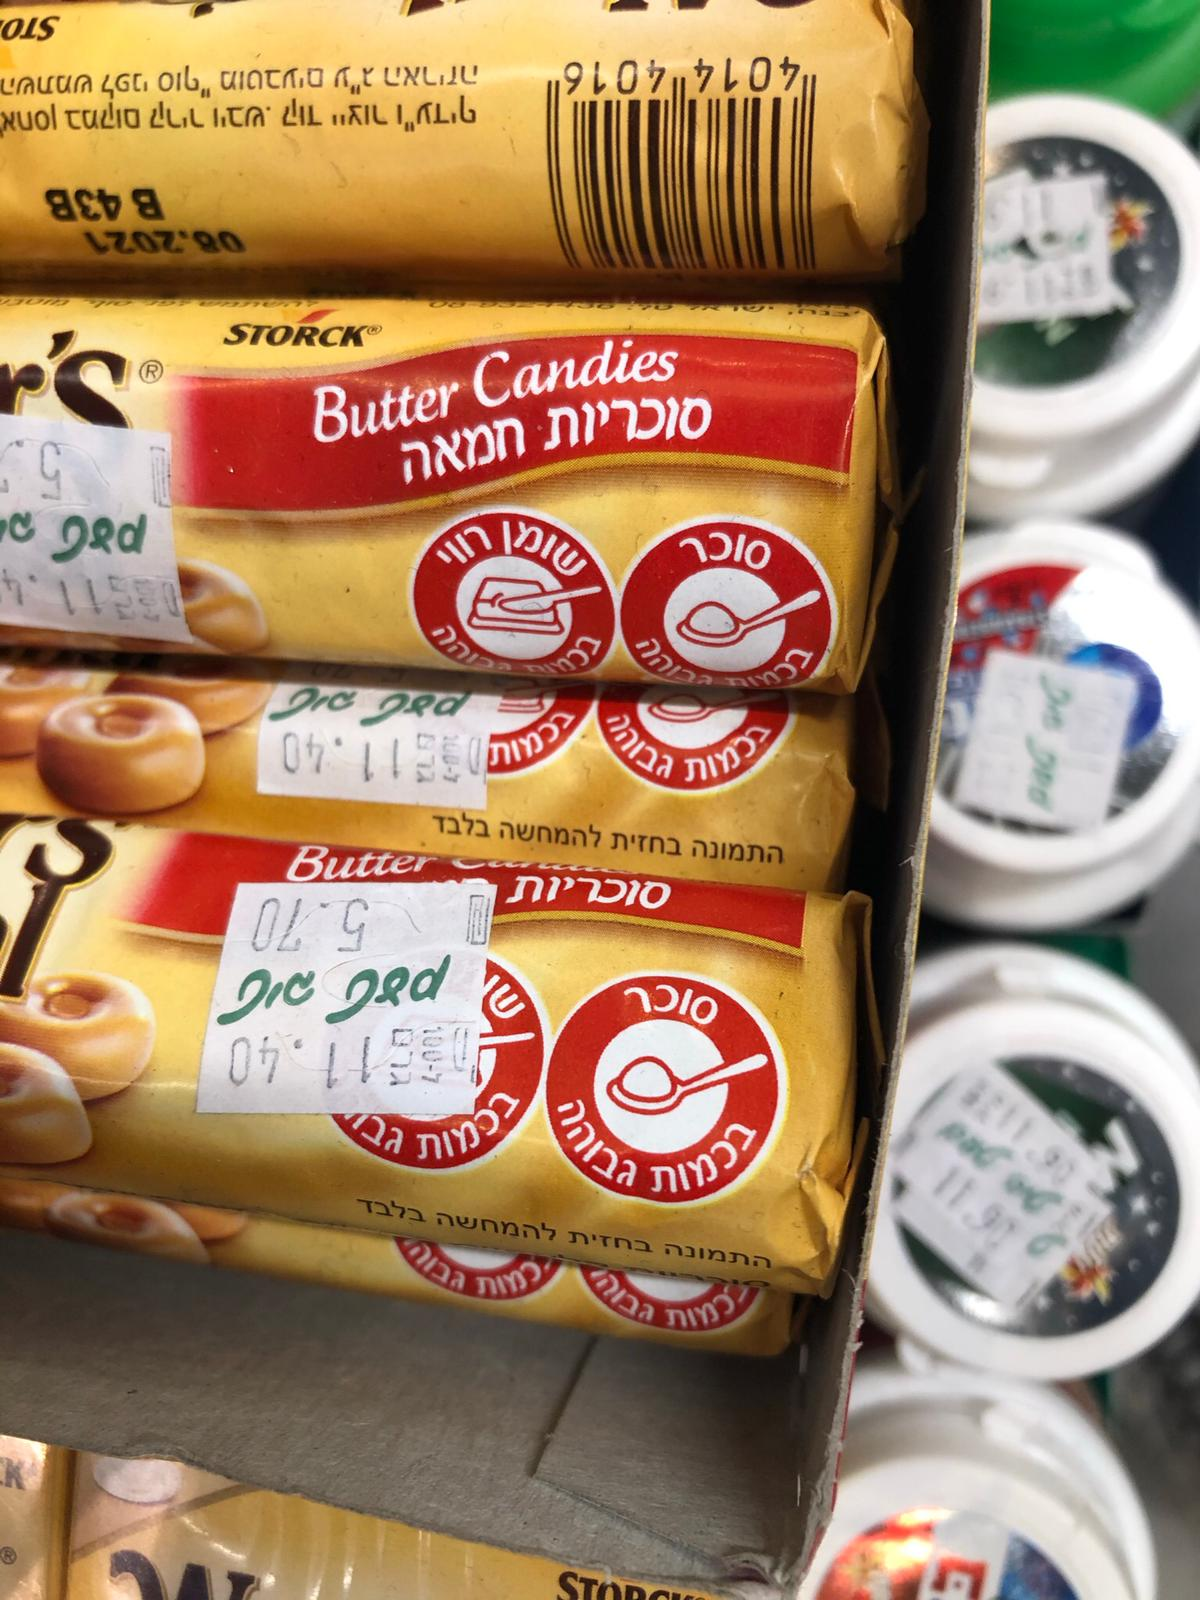fat: (316, 947, 547, 1178), (407, 508, 619, 680)
sugar: (537, 971, 787, 1211), (614, 511, 839, 693)
